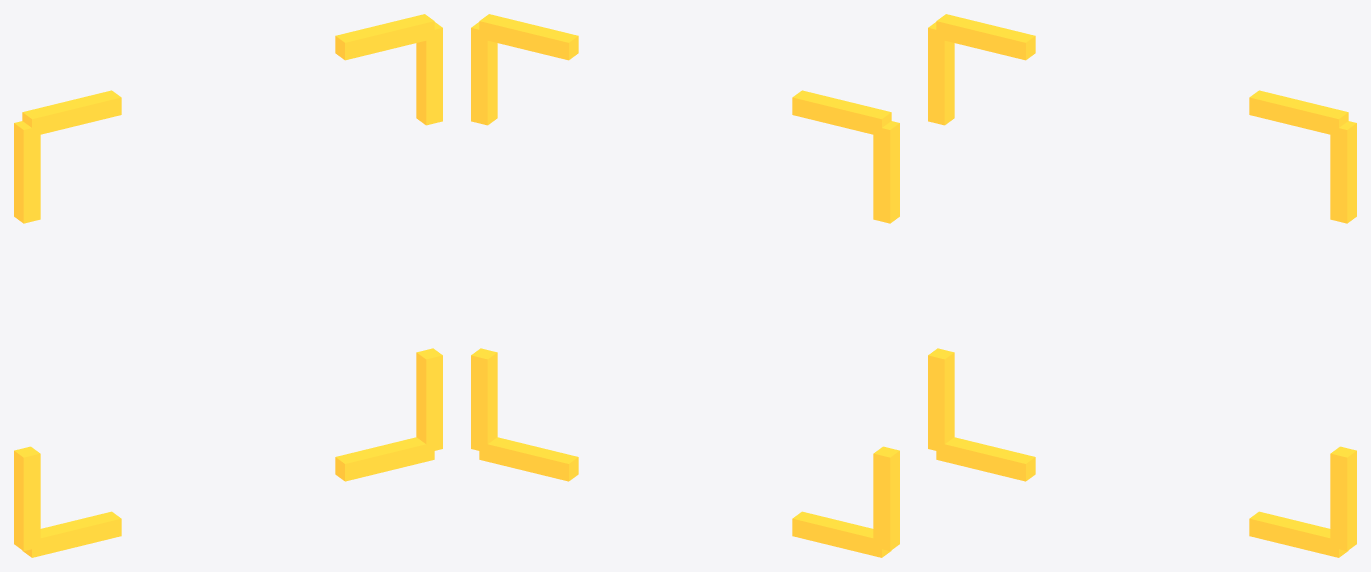
File: marker.glb
3 views of the same model, side by side, from view 1: azimuth 30°, elevation 25°; view 2: azimuth 150°, elevation 25°; view 3: azimuth 330°, elevation 25° (orthographic).
Visible parts, largest first — view 1: marker; view 2: marker; view 3: marker.
Part boxes in pixels (<box>): marker: <box>14,14,442,557</box>; marker: <box>471,14,899,557</box>; marker: <box>928,14,1356,557</box>.
Size of the model in its own units: 0.375 by 0.375 by 0.015.
